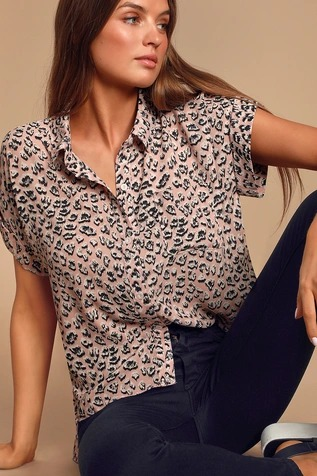C_short blouse: (2, 92, 269, 419)
